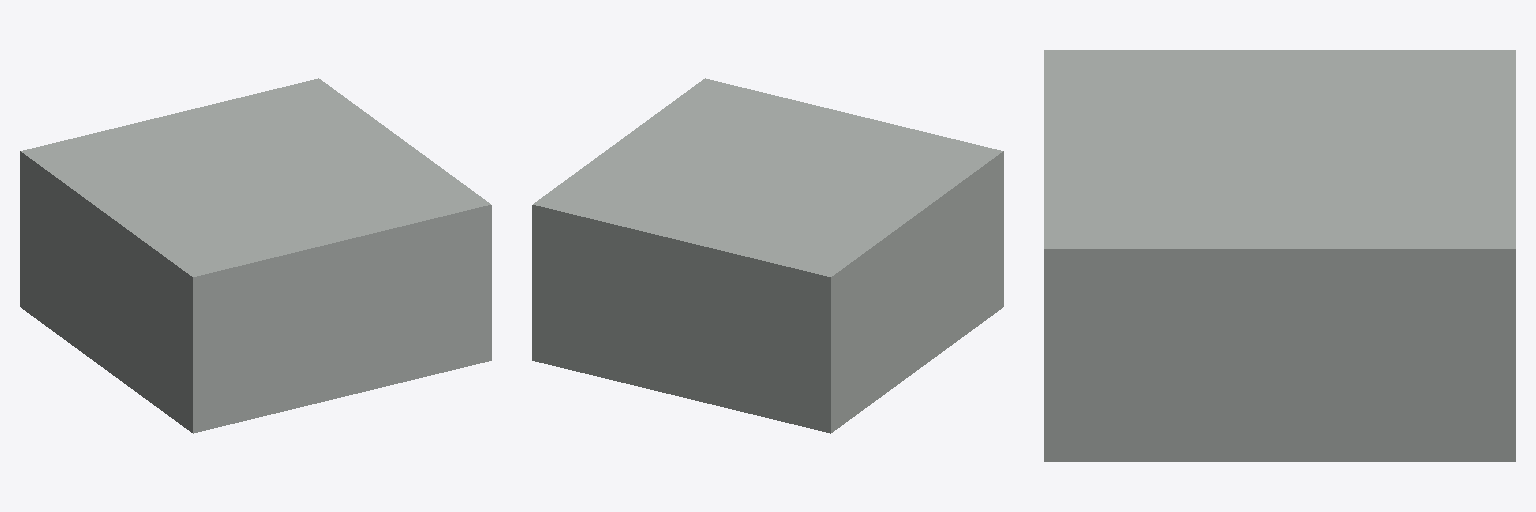
robot.urdf — rect:
<?xml version="1.0"?>
<robot name="rect">
  <link name="rect_base_link">
    <contact>
      <lateral_friction value="0.5"/>
      <spinning_friction value=".001"/>
    </contact>
    <inertial>
      <origin rpy="0 0 0" xyz="0 0 0"/>
      <mass value="2.0"/>
      <inertia ixx="1" ixy="0" ixz="0" iyy="1" iyz="0" izz="1"/>
    </inertial>
    <visual>
      <origin rpy="0 0 0" xyz="0.0 0.0 0.0"/>
      <geometry>
        <box size="0.10 0.10 0.05"/>
      </geometry>
      <material name="rectmat">
        <color rgba="0.7148 0.7344 0.7188 1"/>
      </material>
    </visual>
    <collision>
      <origin rpy="0 0 0" xyz="0.0 0.0 0.0"/>
      <geometry>
        <box size="0.10 0.10 0.05"/>
      </geometry>
    </collision>
  </link>
</robot>

--- Facts derived from the render (not from the file) ---
3 views of the same robot in one strip: view 1: azimuth 30°, elevation 25°; view 2: azimuth 150°, elevation 25°; view 3: azimuth 270°, elevation 25° (orthographic).
Robot: rect — 1 links, 0 joints (none); root link rect_base_link; default pose: all joints at 0.
Visible links, largest first — view 1: rect_base_link; view 2: rect_base_link; view 3: rect_base_link.
Link boxes in pixels (x1,y1,x2,y2): rect_base_link: (20,78,491,433); rect_base_link: (532,78,1003,433); rect_base_link: (1044,50,1515,461).
Size in the robot's own frame: 0.1 by 0.1 by 0.05 metres.
Geometry: primitives only (box / cylinder / sphere), no mesh files.